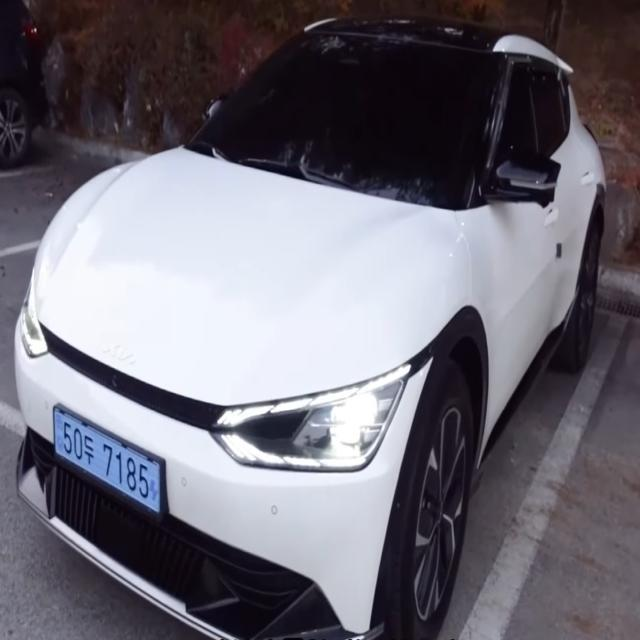car: (47, 397, 182, 529)
carev: (149, 457, 164, 513), (52, 404, 64, 465)
